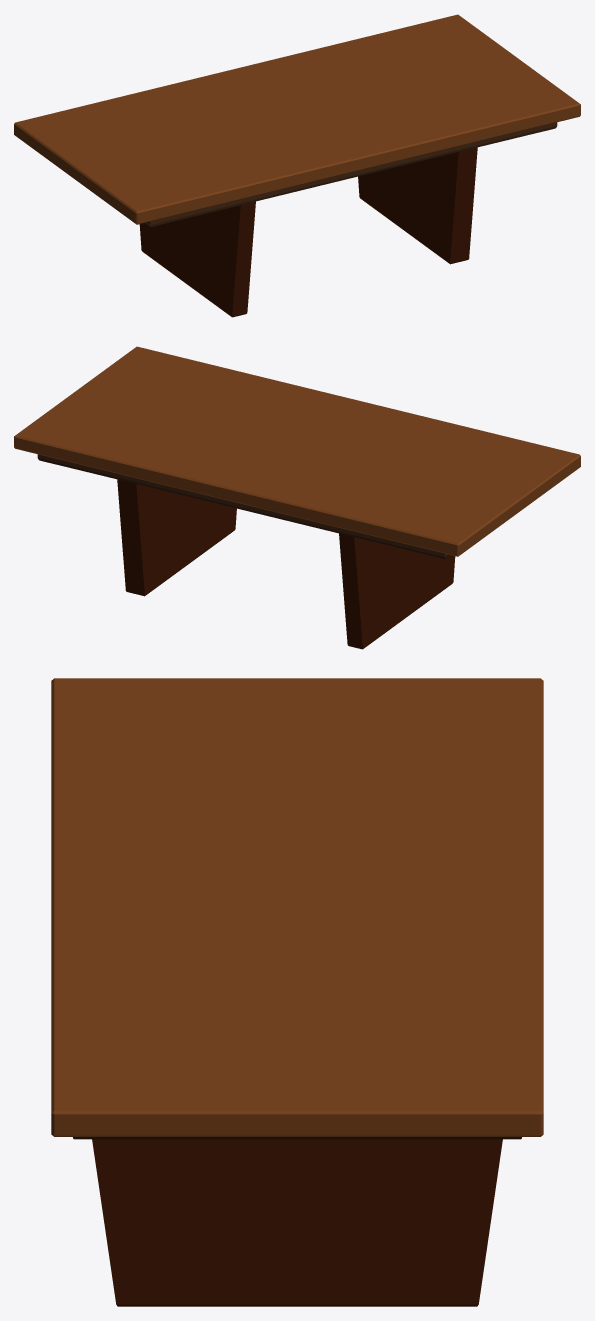
Rendered from Mesona.fbx.
3 renders of one model, top to bottom at view 1: azimuth 30°, elevation 25°; view 2: azimuth 150°, elevation 25°; view 3: azimuth 270°, elevation 25°, orthographic. The views are drawn at different scales.
Parts seen in each view (by area): view 1: Cube.007, Cube.008; view 2: Cube.007, Cube.008; view 3: Cube.007, Cube.008.
Boxes of the visible parts, left/top/right/bottom form: Cube.007: left=14, top=14, right=580, bottom=224; Cube.008: left=139, top=122, right=557, bottom=317; Cube.007: left=14, top=346, right=580, bottom=556; Cube.008: left=37, top=454, right=455, bottom=649; Cube.007: left=51, top=678, right=543, bottom=1136; Cube.008: left=73, top=1137, right=521, bottom=1306.
Bounding box in the file's own units: 4822 × 1503 × 2308.
